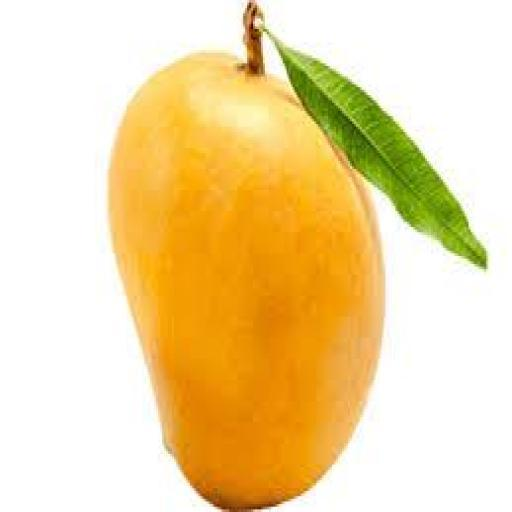mango: (109, 53, 383, 509)
